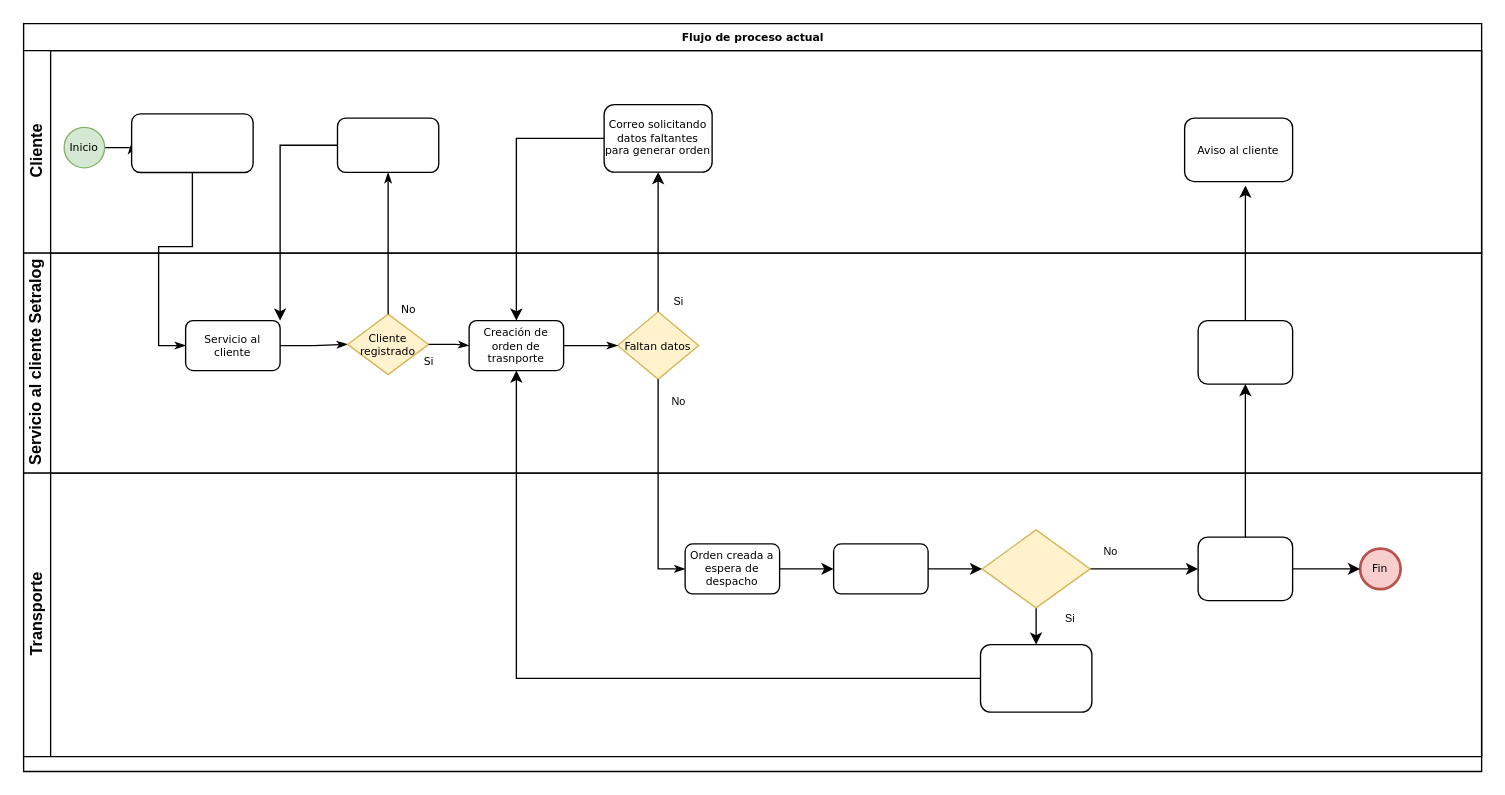
The diagram is 1505 pixels wide and 795 high, and some of its shapes have lost their labels. The centre of each missing label's shape, as x and y in pixels:
"Aviso a servicio al cliente" goes at (1245,351).
"Correo solicinatdo datos del cliente" goes at (387,144).
"En transporte" goes at (880,568).
"Envio de correo electronico con datos y solicitud de orden" goes at (191,142).
"Producto entregado" goes at (1245,568).
"Se avisa a servicio al cliente" goes at (1035,677).
"Se detectan errores en orden" goes at (1035,568).
